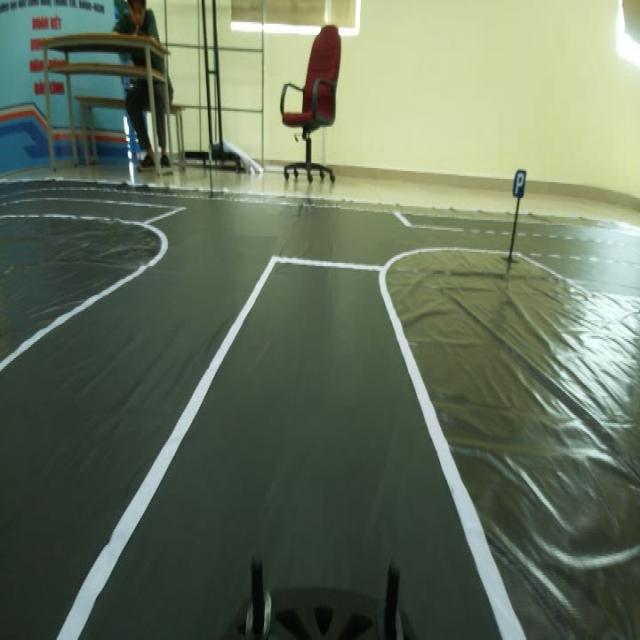parking: (506, 161, 534, 207)
